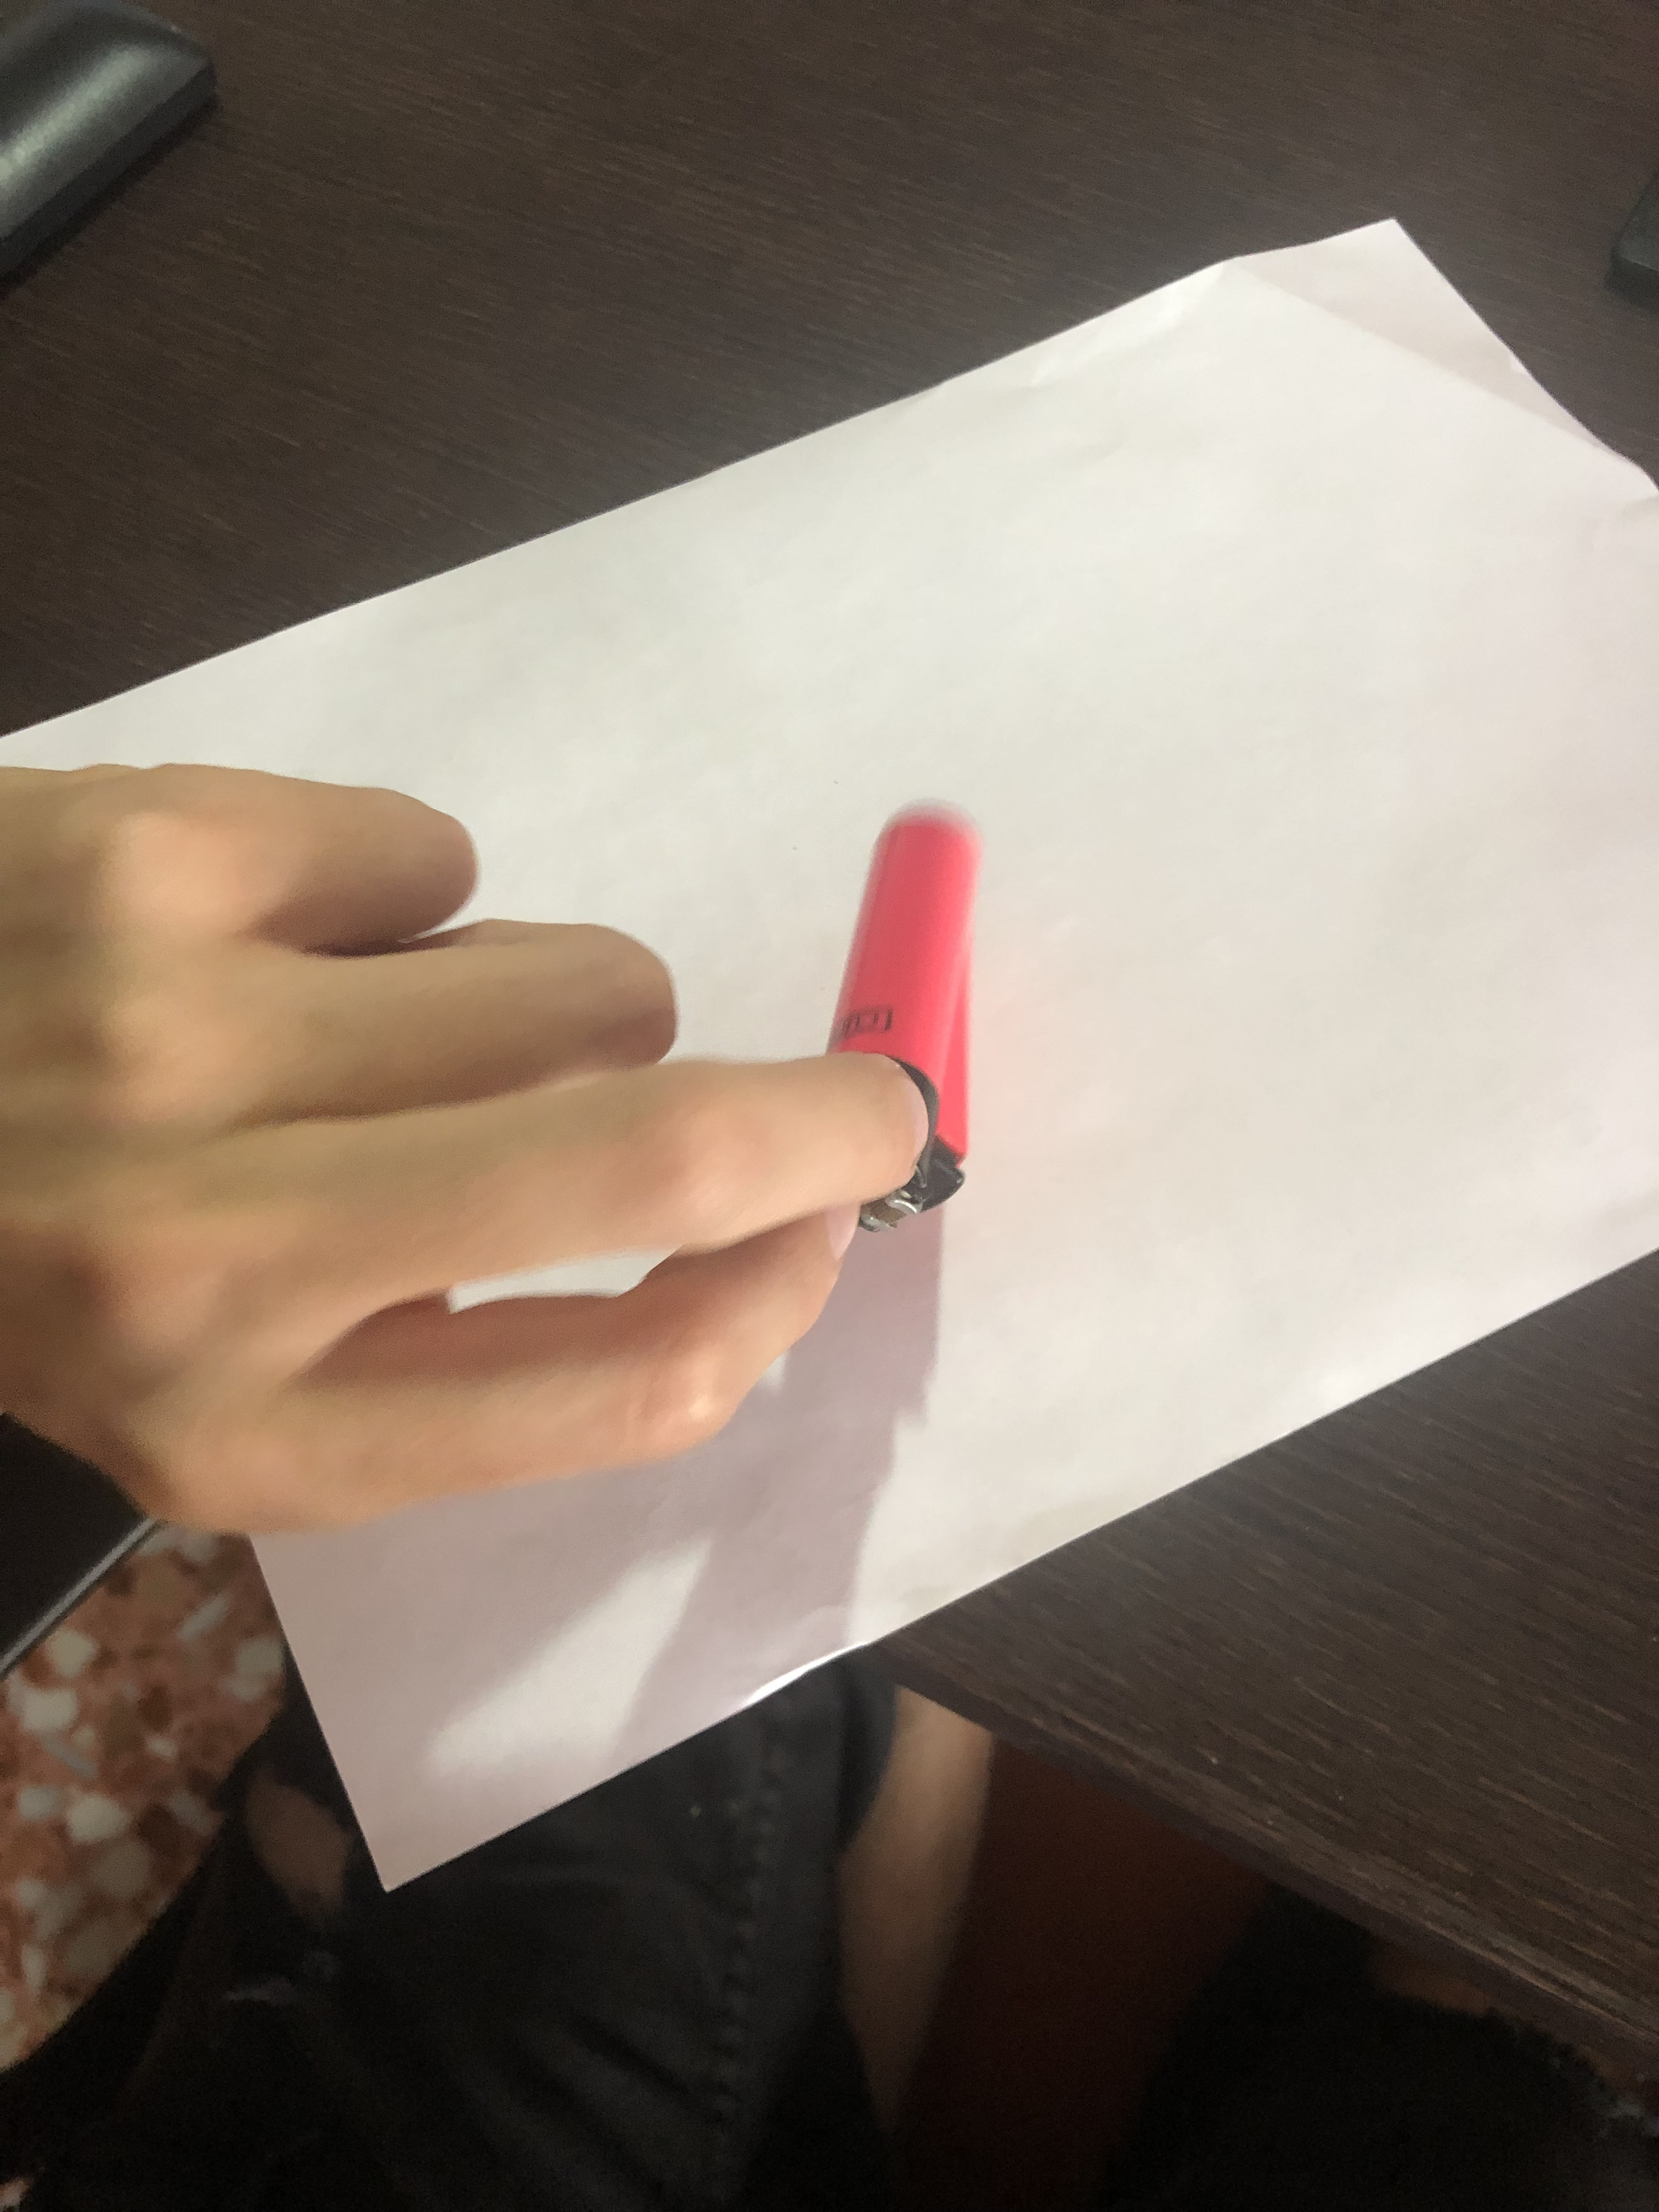Mechero: (795, 732, 1006, 1214)
